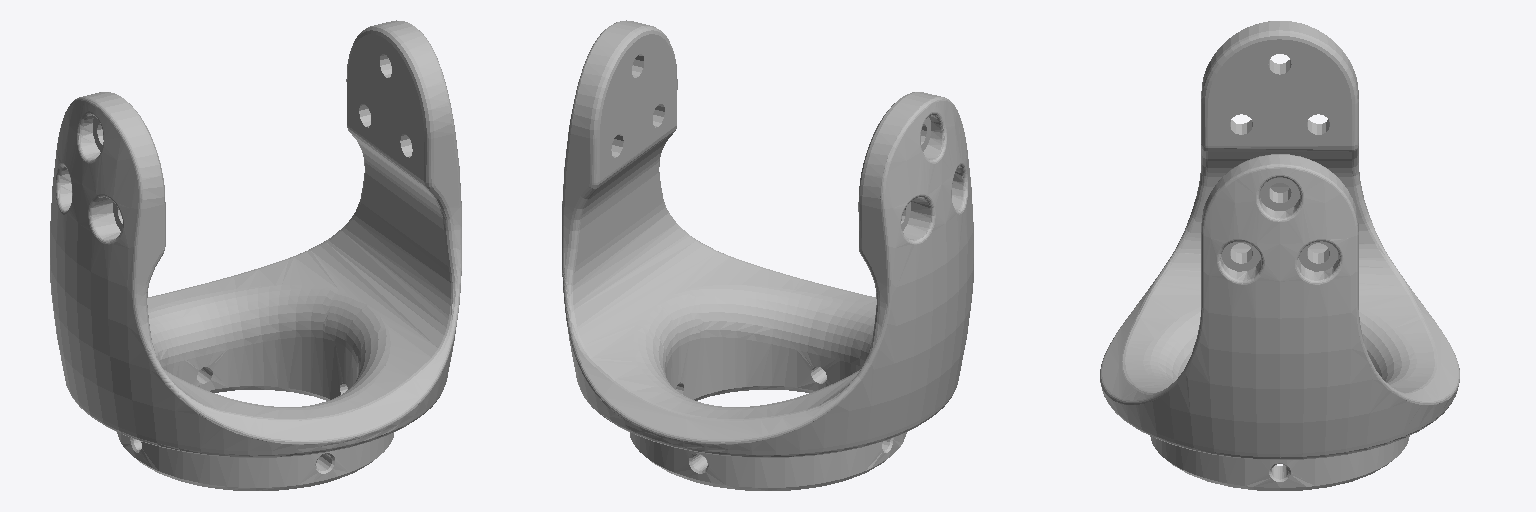
URDF robot description (wristRollRight):
<?xml version="1.0" encoding="utf-8"?>
<!-- This URDF was automatically created by SolidWorks to URDF Exporter! Originally created by [author] ([email redacted]) 
     Commit Version: 1.6.0-4-g7f85cfe  Build Version: 1.6.7995.38578
     For more information, please see http://wiki.ros.org/sw_urdf_exporter -->
<robot
  name="wristRollRight">
  <link
    name="wristRollRight">
    <inertial>
      <origin
        xyz="-2.6761E-07 7.9187E-09 -0.025191"
        rpy="0 0 0" />
      <mass
        value="0.021808" />
      <inertia
        ixx="7.1998E-06"
        ixy="-5.4763E-11"
        ixz="-5.827E-12"
        iyy="1.2789E-05"
        iyz="3.8632E-12"
        izz="1.0831E-05" />
    </inertial>
    <visual>
      <origin
        xyz="0 0 0"
        rpy="0 0 0" />
      <geometry>
        <mesh
          filename="package://wristRollRight/meshes/wristRollRight.STL" />
      </geometry>
      <material
        name="">
        <color
          rgba="0.75294 0.75294 0.75294 1" />
      </material>
    </visual>
    <collision>
      <origin
        xyz="0 0 0"
        rpy="0 0 0" />
      <geometry>
        <mesh
          filename="package://wristRollRight/meshes/wristRollRight.STL" />
      </geometry>
    </collision>
  </link>
</robot>

--- Facts derived from the render (not from the file) ---
The picture shows the robot from 3 angles, left to right: view 1: azimuth 30°, elevation 25°; view 2: azimuth 150°, elevation 25°; view 3: azimuth 270°, elevation 25°; orthographic projection.
Model wristRollRight with 1 links and 0 joints (none), rooted at wristRollRight, posed every joint at zero.
Visible links, largest first — view 1: wristRollRight; view 2: wristRollRight; view 3: wristRollRight.
Link boxes in pixels (bbox=[...]): wristRollRight: bbox=[50, 20, 461, 490]; wristRollRight: bbox=[562, 20, 973, 490]; wristRollRight: bbox=[1100, 21, 1459, 490].
Bounding box of the posed robot: 0.0567 × 0.0527 × 0.056 m (x, y, z).
1 mesh visuals loaded from 1 distinct referenced files (1 binary STL).
